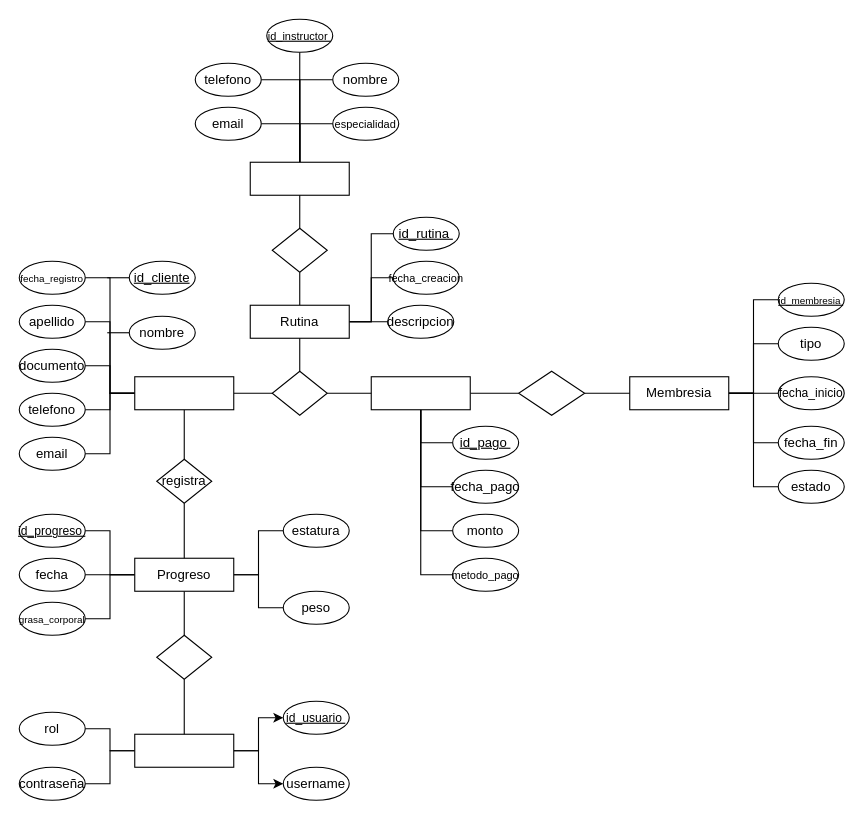
The diagram is 864 pixels wide and 820 high, and some of its shapes have lost their labels. Each missing label, with the centre of its shape:
"Cliente" goes at pixel 184 393.
"corres- ponde" goes at pixel 551 392.
"crea" goes at pixel 299 249.
"Instructor" goes at pixel 299 178.
"Pago" goes at pixel 420 393.
"pertenece" goes at pixel 184 656.
"realiza" goes at pixel 299 392.
"Usuario" goes at pixel 184 750.
